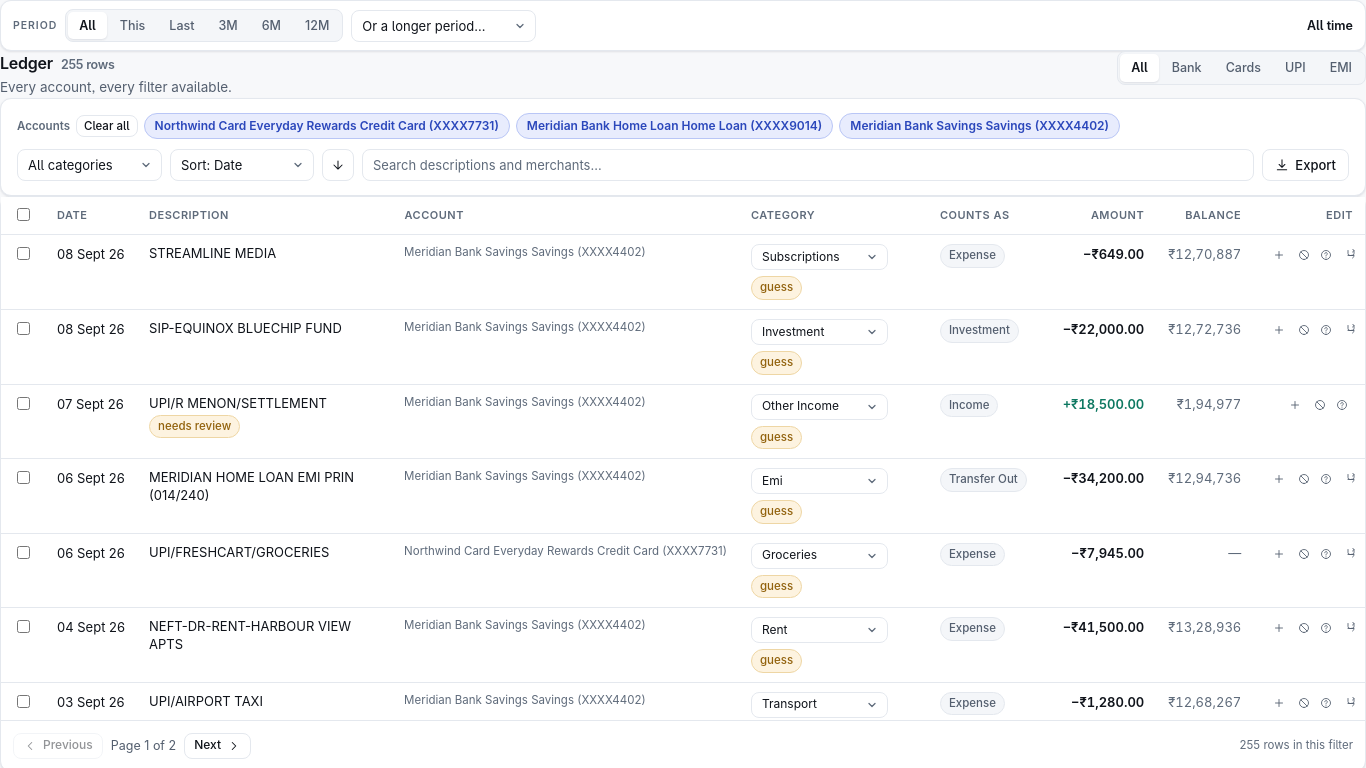
the period bar › goes back to the whole ledger with one click
Expected: the heading "Ledger255 rows" is shown, [0,53,115,73]
Click the tab "Last": (182, 26) [158,12,206,39]
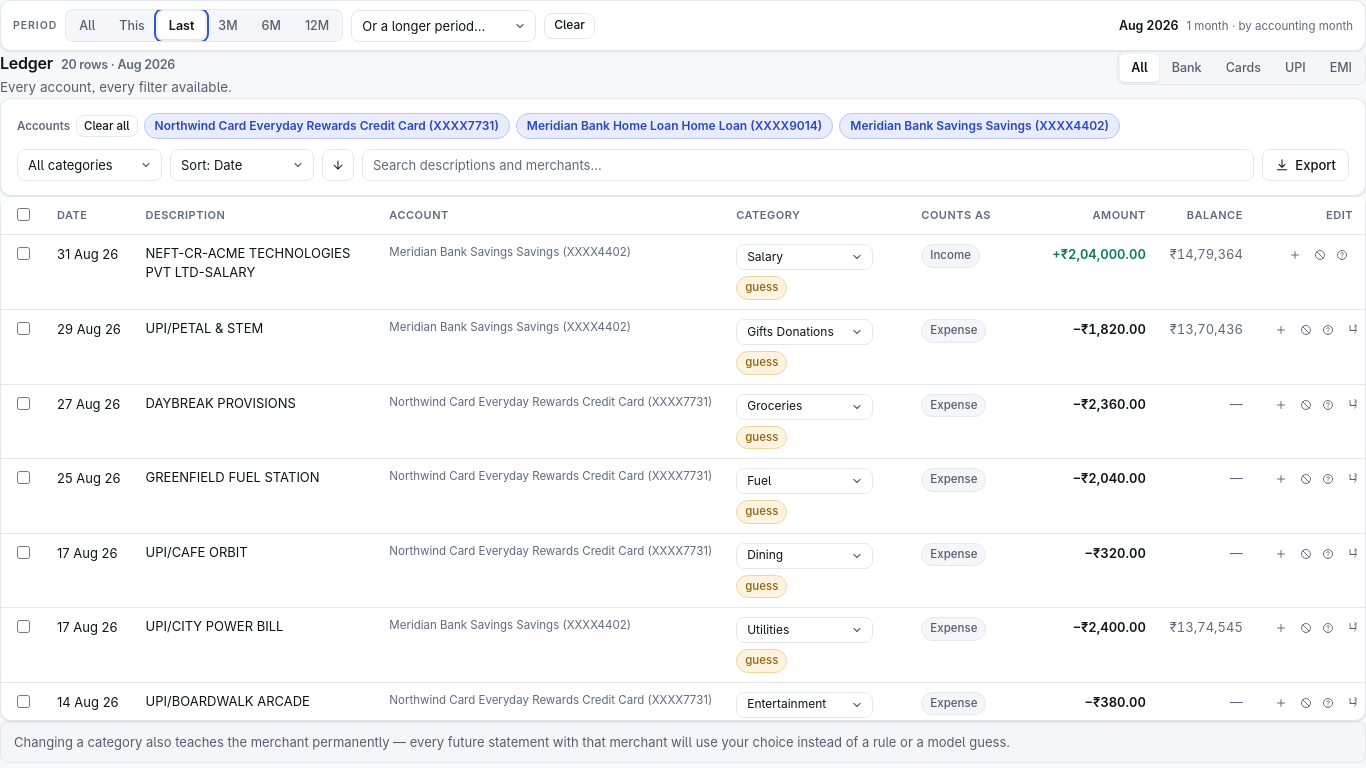
Now the text "ledger" no longer shows "255 rows"
Click the button "Clear": (570, 26) [544,13,595,39]
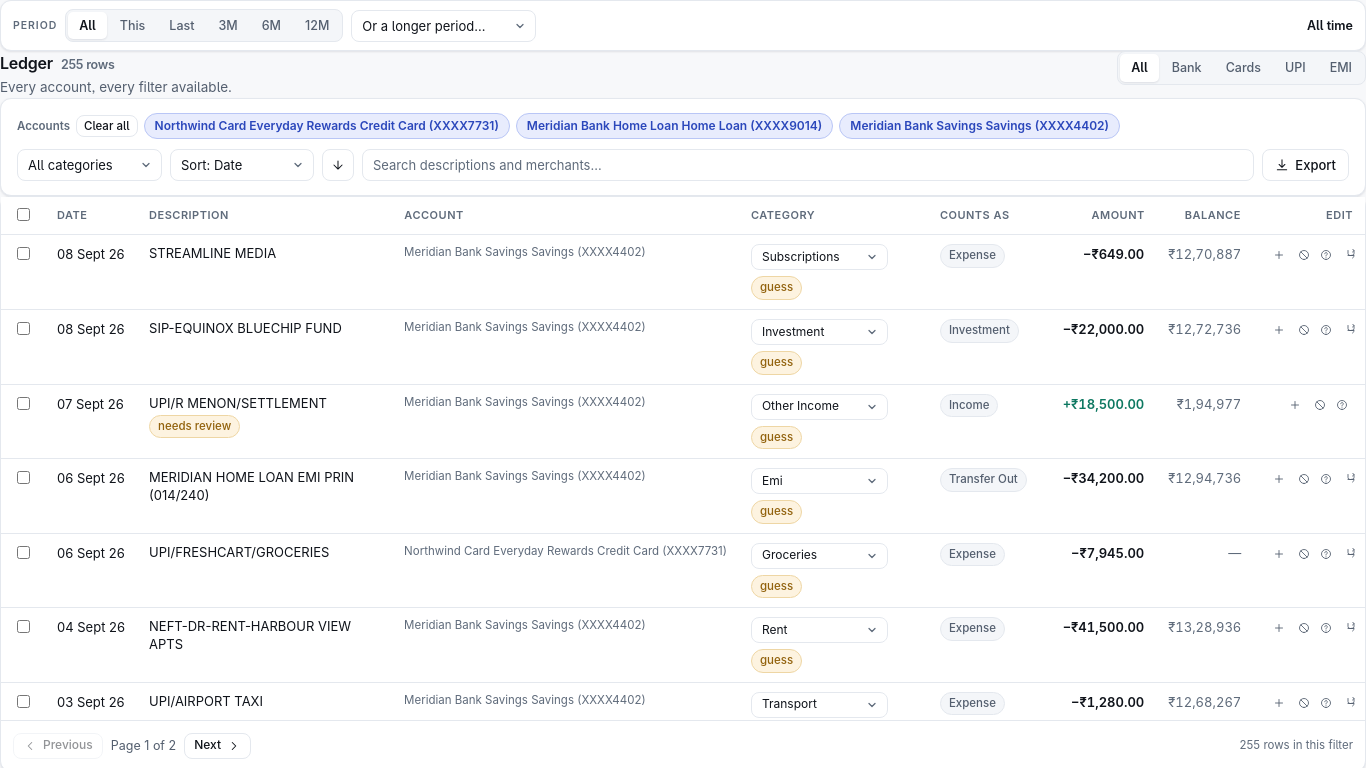
Now the heading "Ledger255 rows" is shown, box [0,53,115,73]
